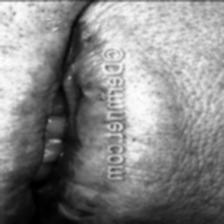Potentially Malignant Skin Tumors: (74, 57, 106, 103), (55, 207, 90, 221)
